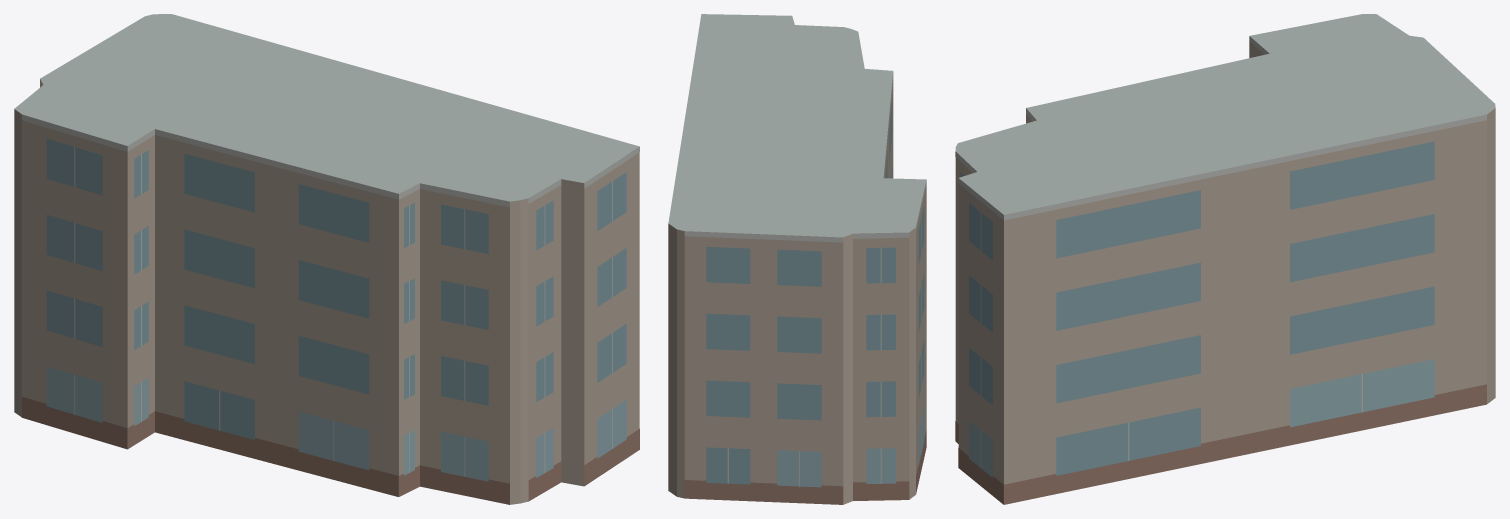
Rendered from survey-upis-32576815.glb.
3 views of the same model, side by side, from view 1: azimuth 30°, elevation 25°; view 2: azimuth 150°, elevation 25°; view 3: azimuth 270°, elevation 25° (orthographic). The views are drawn at different scales.
Visible parts, largest first — view 1: survey-upis-32576815.tmp; view 2: survey-upis-32576815.tmp; view 3: survey-upis-32576815.tmp.
Boxes of the visible parts, x1,y1,x2,y2 form: survey-upis-32576815.tmp: [14, 14, 639, 504]; survey-upis-32576815.tmp: [668, 14, 926, 504]; survey-upis-32576815.tmp: [955, 14, 1495, 504].
Size of the model in its own units: 18.88 by 12.7 by 21.44.
